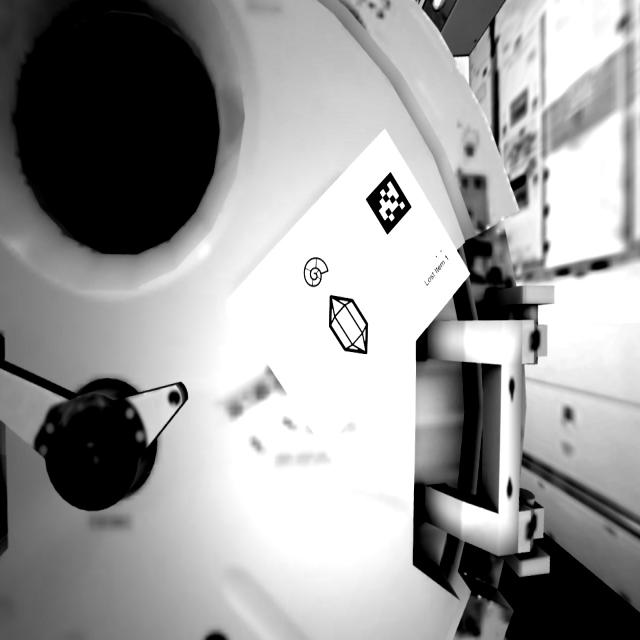crystal: (325, 294, 374, 364)
fossil: (299, 255, 337, 291)
